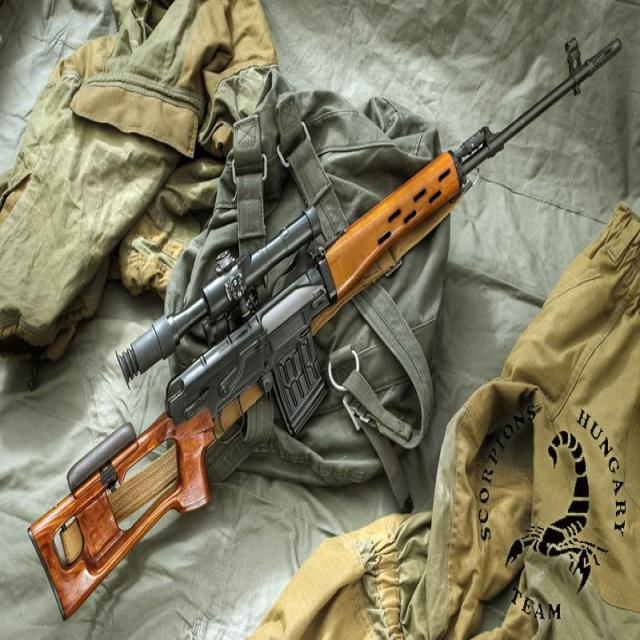rifle: (10, 38, 627, 627)
